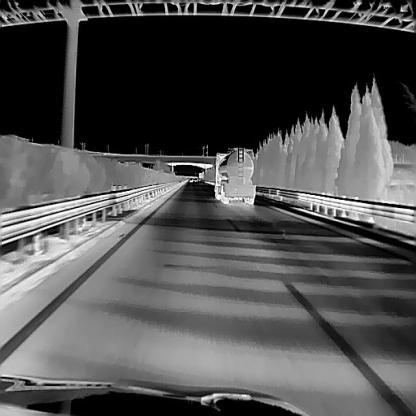car: (213, 146, 256, 203)
